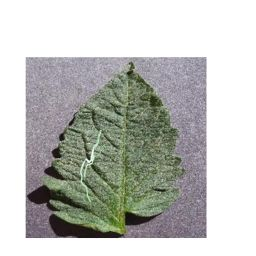liriomyza: (79, 129, 102, 209)
